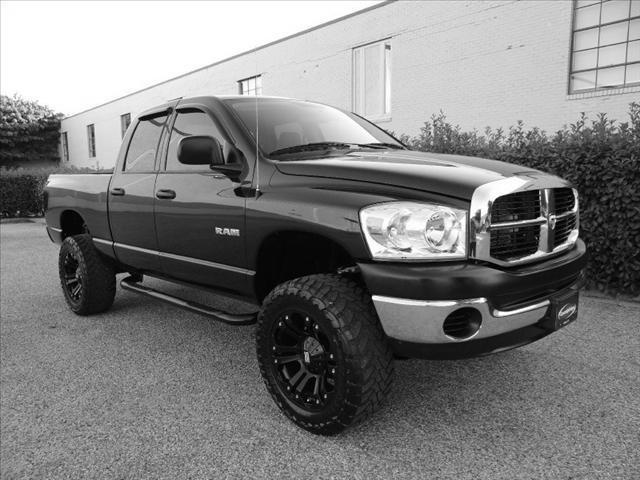car: (31, 90, 594, 444)
